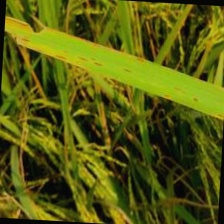Bacterial_Leaf_Blight: (78, 52, 106, 67), (51, 50, 69, 61), (16, 34, 30, 44), (118, 67, 134, 74), (190, 95, 201, 104), (213, 111, 224, 120), (161, 92, 173, 100), (136, 56, 147, 64)
